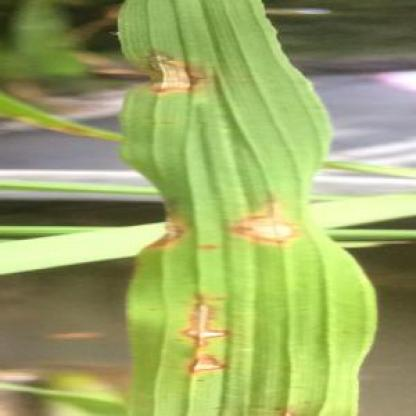Rice blast: (172, 287, 234, 391), (228, 206, 302, 259), (134, 57, 220, 96), (152, 204, 181, 258)
